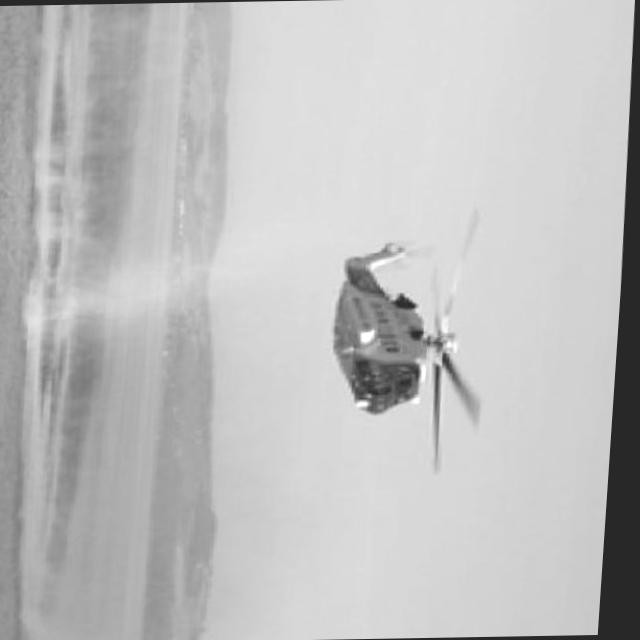helikopter: (322, 197, 538, 492)
